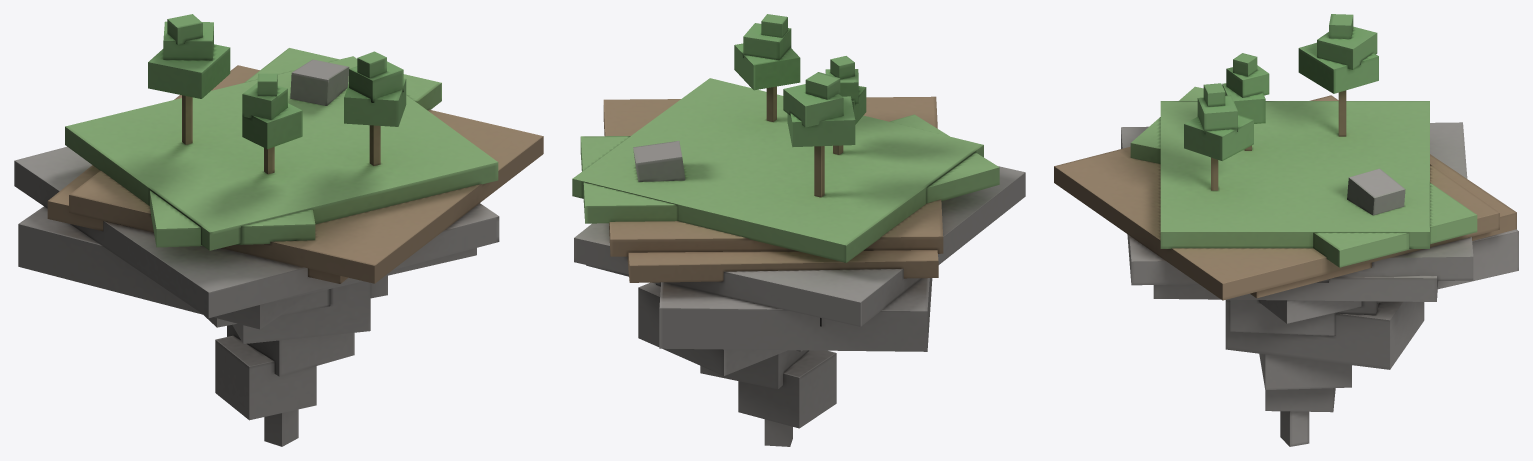
Rendered from skyisland.glb.
3 views of the same model, side by side, from view 1: azimuth 30°, elevation 25°; view 2: azimuth 150°, elevation 25°; view 3: azimuth 270°, elevation 25° (orthographic). The views are drawn at different scales.
Parts seen in each view (by area): view 1: skyisland; view 2: skyisland; view 3: skyisland.
Boxes of the visible parts, bbox=[...] form: skyisland: bbox=[14, 14, 543, 446]; skyisland: bbox=[572, 14, 1025, 446]; skyisland: bbox=[1054, 14, 1518, 446].
Size of the model in its own units: 34.55 by 31.82 by 34.54.
5 materials, 5 textured.
